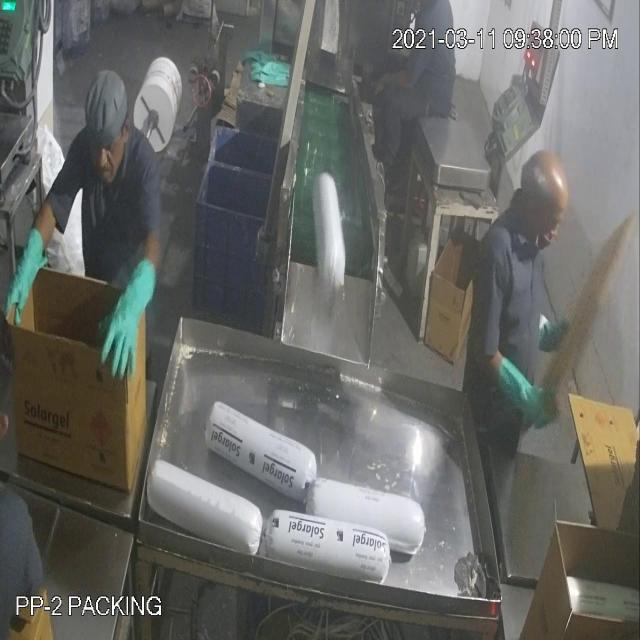Gloves: (24, 52, 524, 388)
